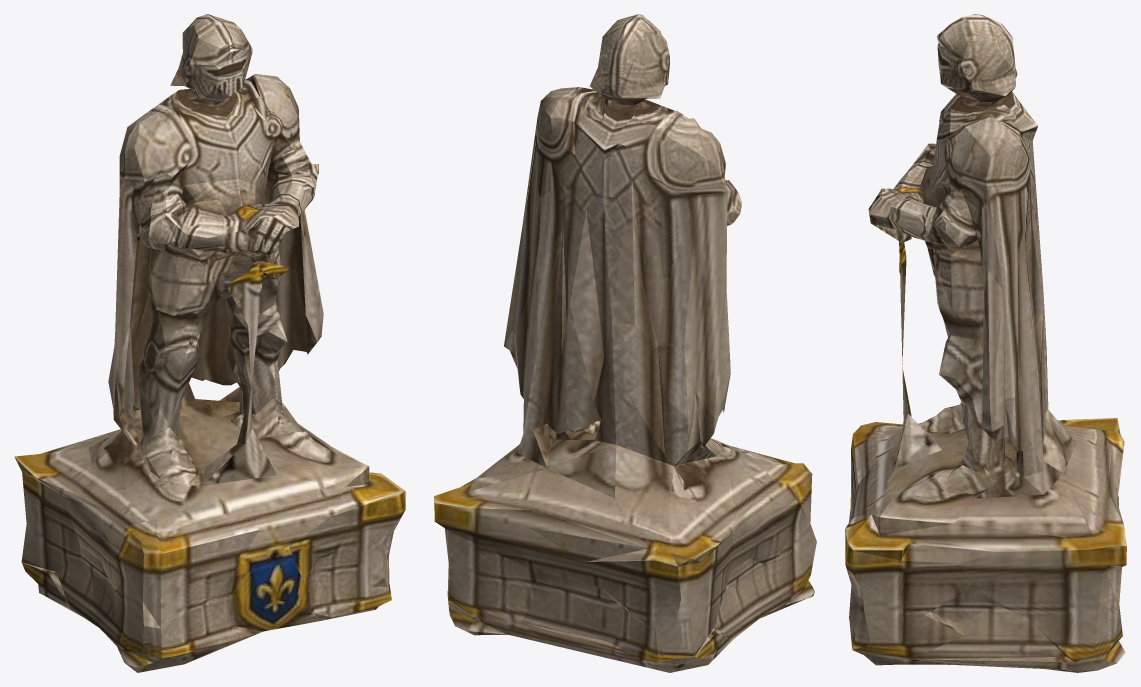
The model's file is royal_statue.glb.
3 views of the same model, side by side, from view 1: azimuth 30°, elevation 25°; view 2: azimuth 150°, elevation 25°; view 3: azimuth 270°, elevation 25° (orthographic).
Visible parts, largest first — view 1: output_unwrapped; view 2: output_unwrapped; view 3: output_unwrapped.
Part boxes in pixels (x1,y1,x2,y2): output_unwrapped: (14, 14, 405, 672); output_unwrapped: (434, 14, 816, 672); output_unwrapped: (845, 14, 1126, 672).
Size of the model in its own units: 0.8728 by 1.87 by 0.7908.
1 material, 1 textured.
